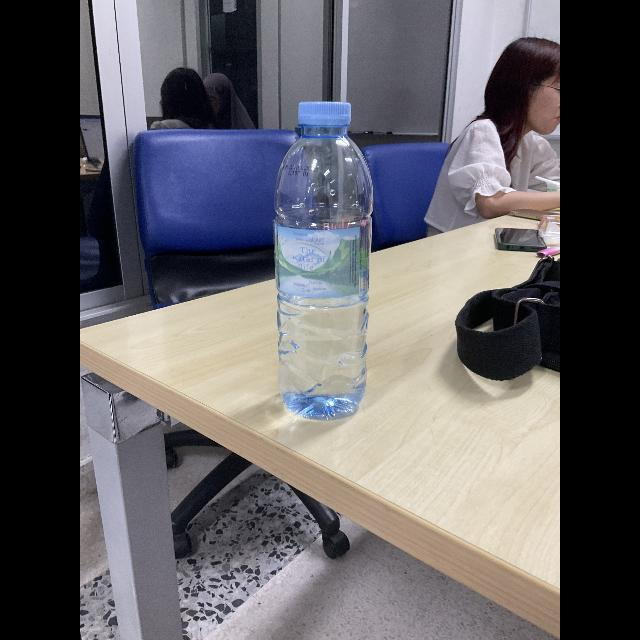plastic_bottle: (252, 87, 396, 439)
plastic_bottle_cap: (295, 98, 353, 128)
